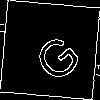G: (25, 25, 84, 86)
